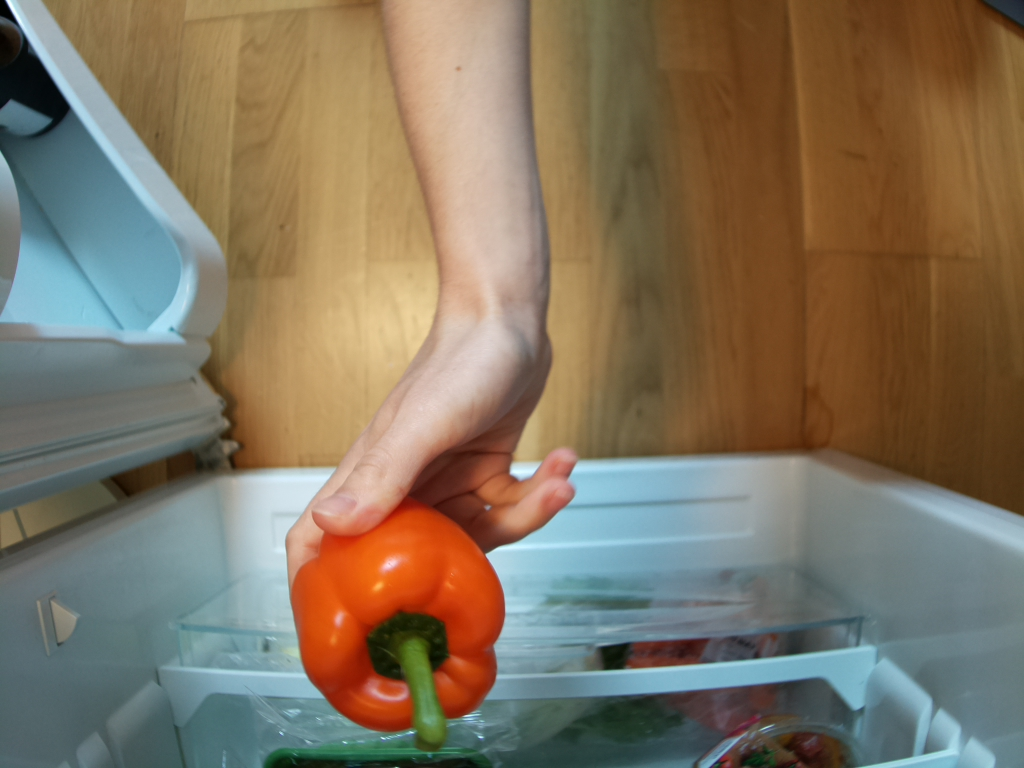pepper: (289, 500, 504, 750)
